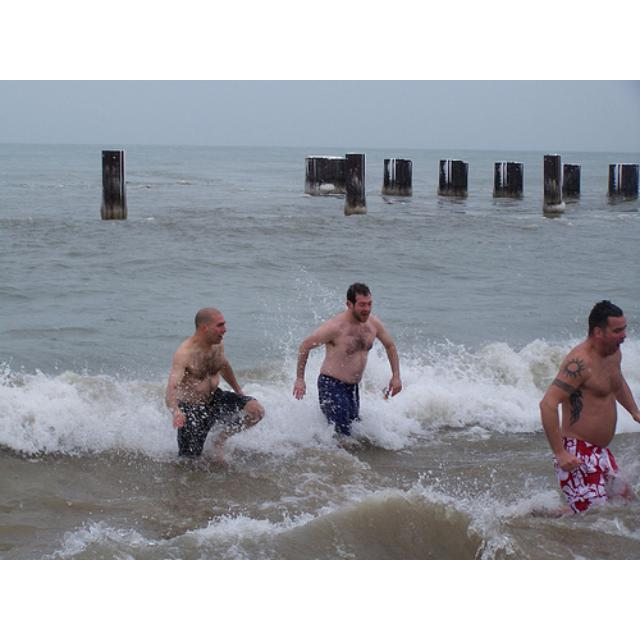human: (539, 298, 640, 518), (294, 282, 405, 443), (165, 307, 267, 465)
